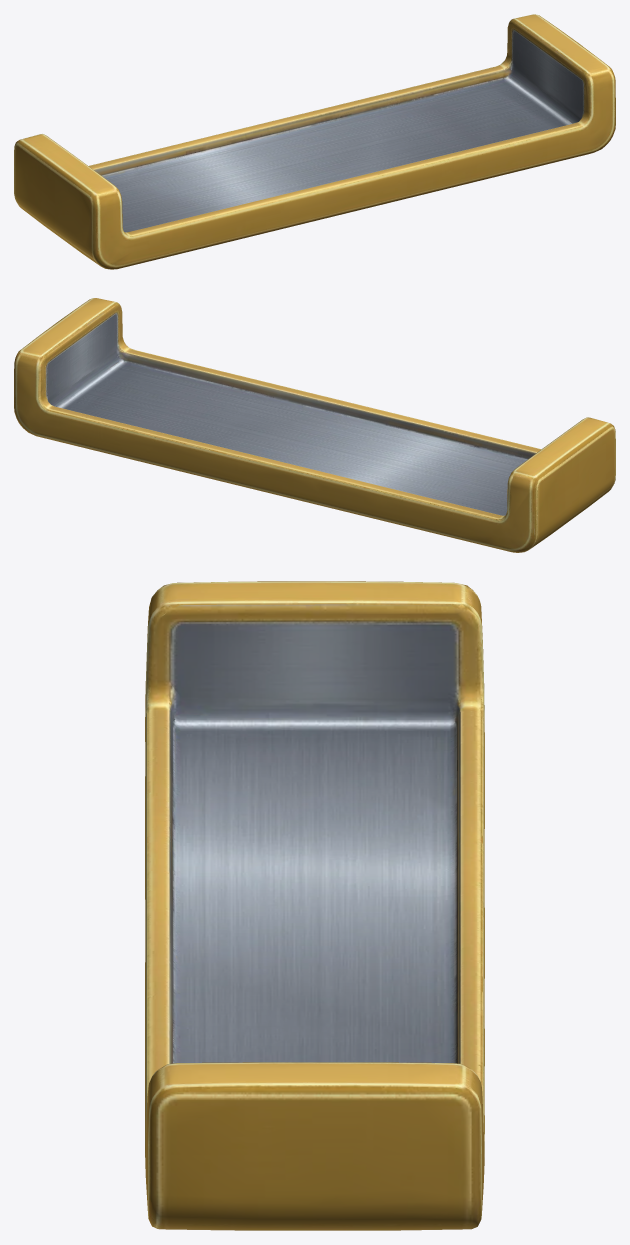
Rendered from device-ramp.glb.
The picture shows the model from 3 angles, top to bottom: view 1: azimuth 30°, elevation 25°; view 2: azimuth 150°, elevation 25°; view 3: azimuth 270°, elevation 25°; orthographic projection. The views are drawn at different scales.
Visible parts, largest first — view 1: web; view 2: web; view 3: web.
Part boxes in pixels (bbox=[...]): web: bbox=[14, 14, 615, 269]; web: bbox=[14, 298, 615, 552]; web: bbox=[145, 581, 484, 1230].
Bounding box in the file's own units: 0.14 × 0.0207 × 0.0393.
1 material, 1 textured.
